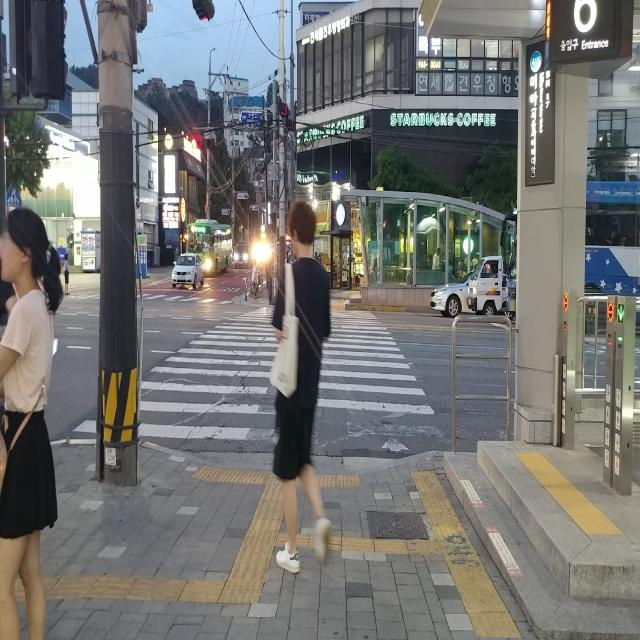횡단보도: (72, 306, 442, 452)
